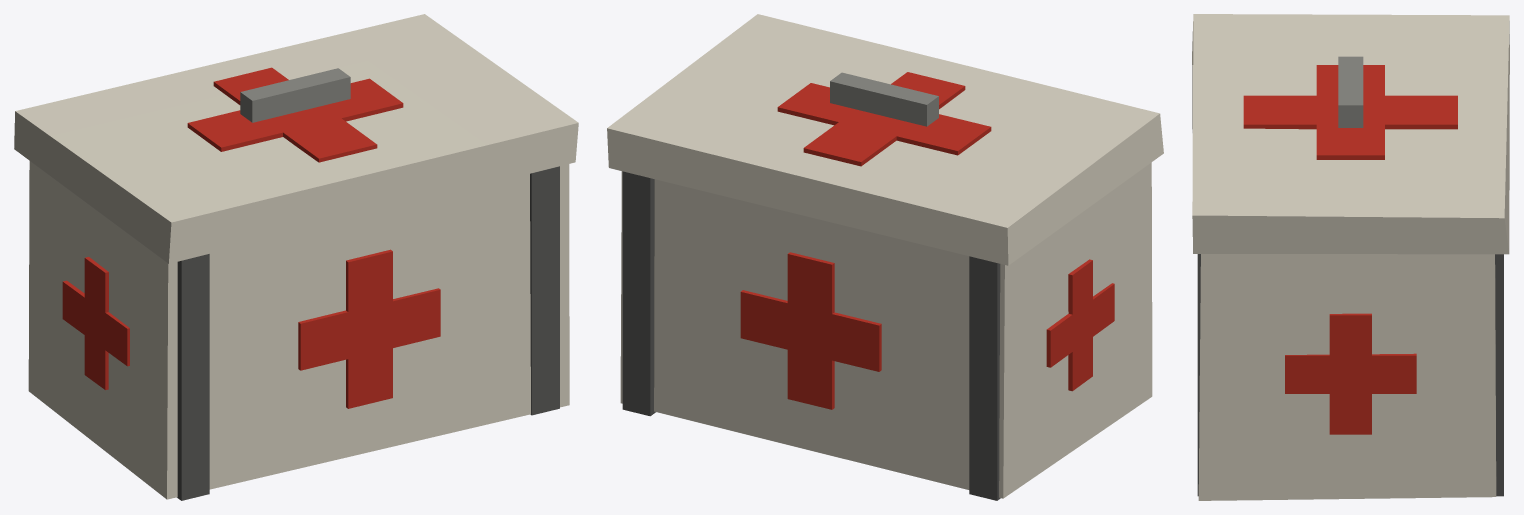
Rendered from good_meds.glb.
3 views of the same model, side by side, from view 1: azimuth 30°, elevation 25°; view 2: azimuth 150°, elevation 25°; view 3: azimuth 270°, elevation 25° (orthographic). The views are drawn at different scales.
Parts seen in each view (by area): view 1: good_meds; view 2: good_meds; view 3: good_meds.
Boxes of the visible parts, x1,y1,x2,y2 form: good_meds: (14, 14, 578, 500); good_meds: (607, 14, 1163, 500); good_meds: (1192, 14, 1509, 500).
Bounding box in the file's own units: 0.5855 × 0.43 × 0.3855.
